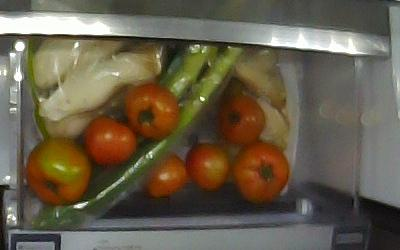tomato: (25, 139, 90, 203), (229, 142, 290, 201), (122, 84, 179, 139), (218, 95, 267, 144), (86, 117, 135, 165), (142, 151, 187, 197), (186, 143, 230, 190)
